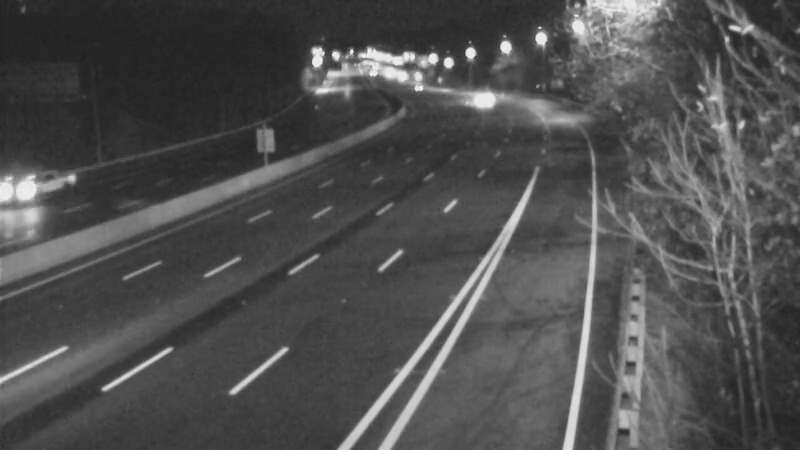vehicle: (1, 147, 78, 227), (390, 62, 440, 112), (452, 74, 502, 124)
